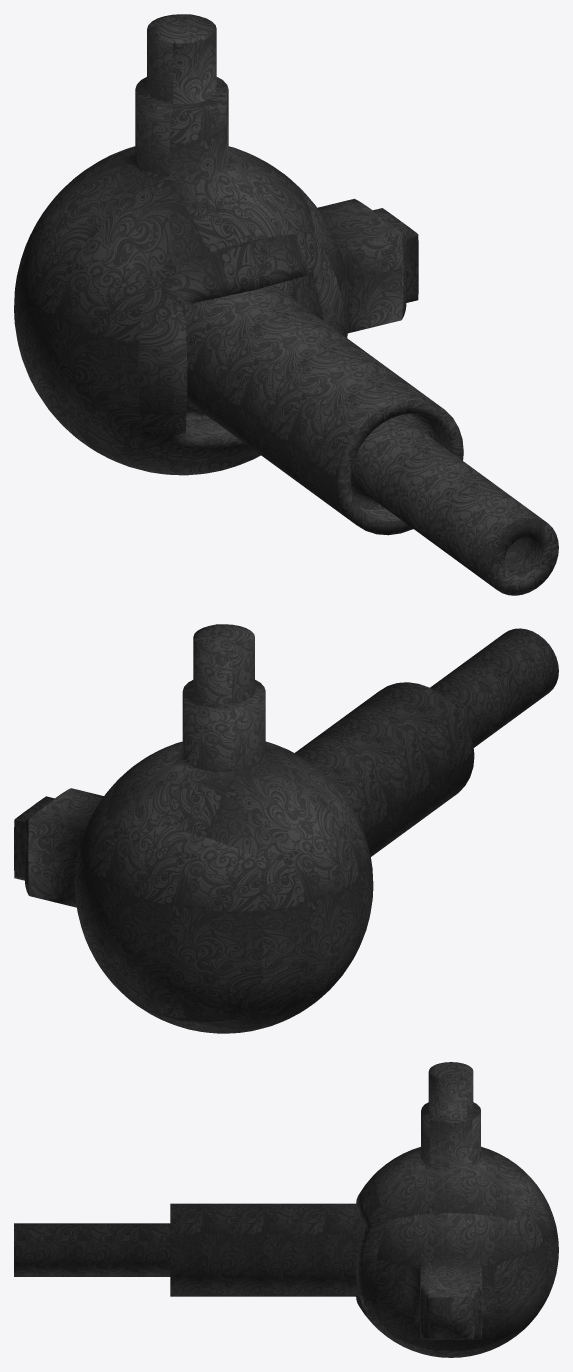
File: exo_support_turret.dae
3 views of the same model, one above another, from view 1: azimuth 30°, elevation 25°; view 2: azimuth 150°, elevation 25°; view 3: azimuth 270°, elevation 25° (orthographic). The views are drawn at different scales.
Parts seen in each view (by area): view 1: Cube; view 2: Cube; view 3: Cube.
Boxes of the visible parts, <box> form: Cube: <box>14,14,558,595</box>; Cube: <box>14,624,558,1033</box>; Cube: <box>14,1062,558,1357</box>.
Bounding box in the file's own units: 0.3573 × 0.722 × 0.41.
Materials: 1 (1 with a texture image).
